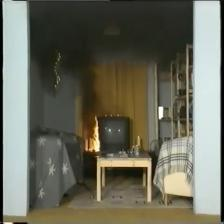fire: (83, 113, 101, 153)
